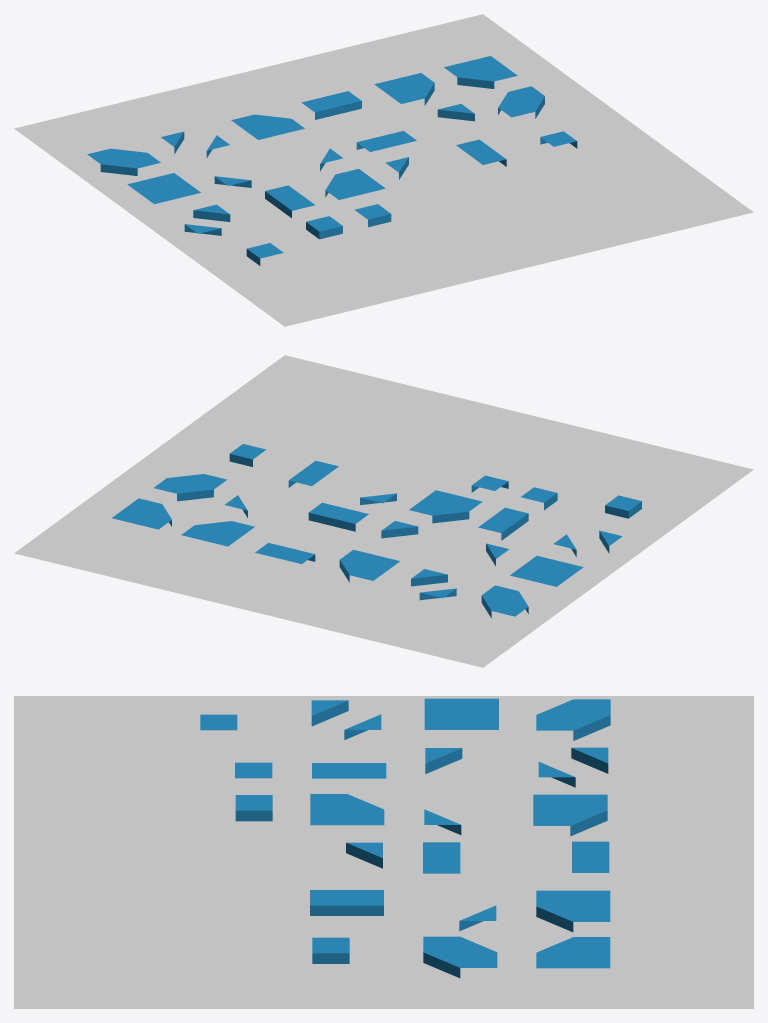
The model's file is ms-raised.gltf.
3 renders of one model, top to bottom at view 1: azimuth 30°, elevation 25°; view 2: azimuth 150°, elevation 25°; view 3: azimuth 270°, elevation 25°, orthographic. The views are drawn at different scales.
Visible parts, largest first — view 1: Plane, case-14, case-15, case-10-1, case-13, case-7, case-11, case-5, case-12, case-6, case-5-2, case-3 (+2 smaller); view 2: Plane, case-7, case-15, case-5, case-11, case-14, case-13, case-10-1, case-3, case-6, case-10-2, case-12 (+2 smaller); view 3: Plane, case-13, case-11, case-15, case-10-1, case-5, case-14, case-7, case-9, case-3, case-12, case-10-2 (+8 smaller).
Part boxes in pixels (left/top/right/bottom): Plane: left=14, top=14, right=753, bottom=326; case-14: left=444, top=56, right=517, bottom=88; case-15: left=127, top=173, right=200, bottom=204; case-10-1: left=87, top=148, right=160, bottom=175; case-13: left=374, top=73, right=434, bottom=105; case-7: left=325, top=169, right=385, bottom=199; case-11: left=231, top=114, right=304, bottom=139; case-5: left=498, top=86, right=544, bottom=118; case-12: left=301, top=91, right=361, bottom=119; case-6: left=265, top=185, right=315, bottom=218; case-5-2: left=184, top=204, right=230, bottom=235; case-3: left=356, top=131, right=416, bottom=151; Plane: left=14, top=355, right=753, bottom=667; case-7: left=409, top=490, right=482, bottom=523; case-15: left=510, top=555, right=583, bottom=586; case-5: left=154, top=474, right=226, bottom=501; case-11: left=339, top=549, right=399, bottom=582; case-14: left=112, top=498, right=171, bottom=529; case-13: left=181, top=521, right=254, bottom=546; case-10-1: left=481, top=585, right=528, bottom=618; case-3: left=308, top=502, right=368, bottom=531; case-6: left=478, top=507, right=528, bottom=540; case-10-2: left=411, top=569, right=456, bottom=600; case-12: left=255, top=543, right=315, bottom=563; Plane: left=14, top=696, right=753, bottom=1008; case-13: left=536, top=890, right=610, bottom=932; case-11: left=533, top=794, right=607, bottom=836; case-15: left=424, top=698, right=498, bottom=729; case-10-1: left=536, top=699, right=610, bottom=740; case-5: left=423, top=936, right=497, bottom=978; case-14: left=536, top=937, right=610, bottom=968; case-7: left=310, top=794, right=384, bottom=825; case-9: left=310, top=890, right=383, bottom=915; case-3: left=423, top=842, right=460, bottom=873; case-12: left=572, top=841, right=609, bottom=872; case-10-2: left=538, top=747, right=608, bottom=787.
Bounding box in the file's own units: 9.98 × 0.1604 × 9.98.
